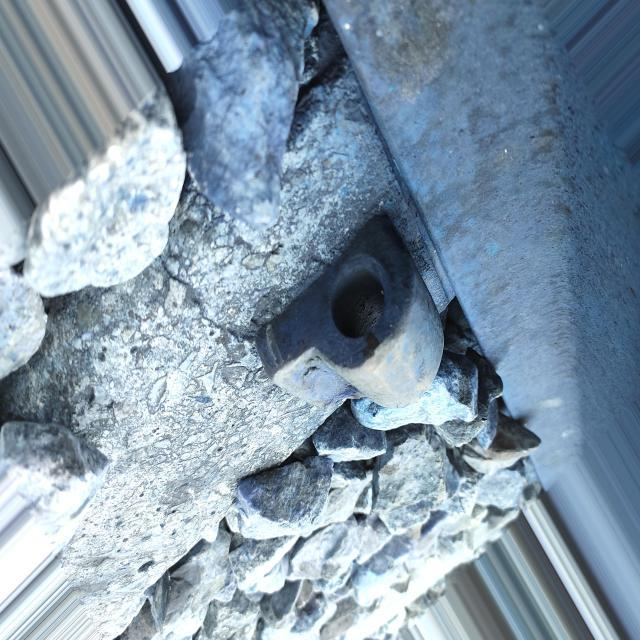Missing Fastener: (222, 200, 472, 471)
